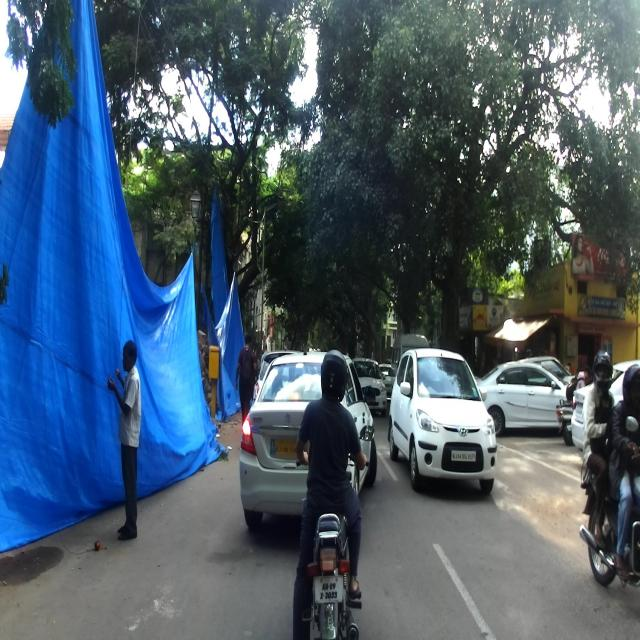car: (239, 348, 377, 530), (388, 345, 498, 495)
motorcycle: (296, 422, 375, 640)
